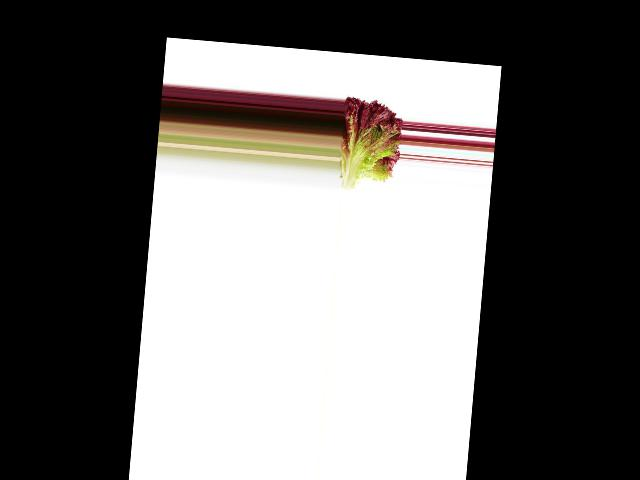lettuce: (337, 91, 403, 196)
